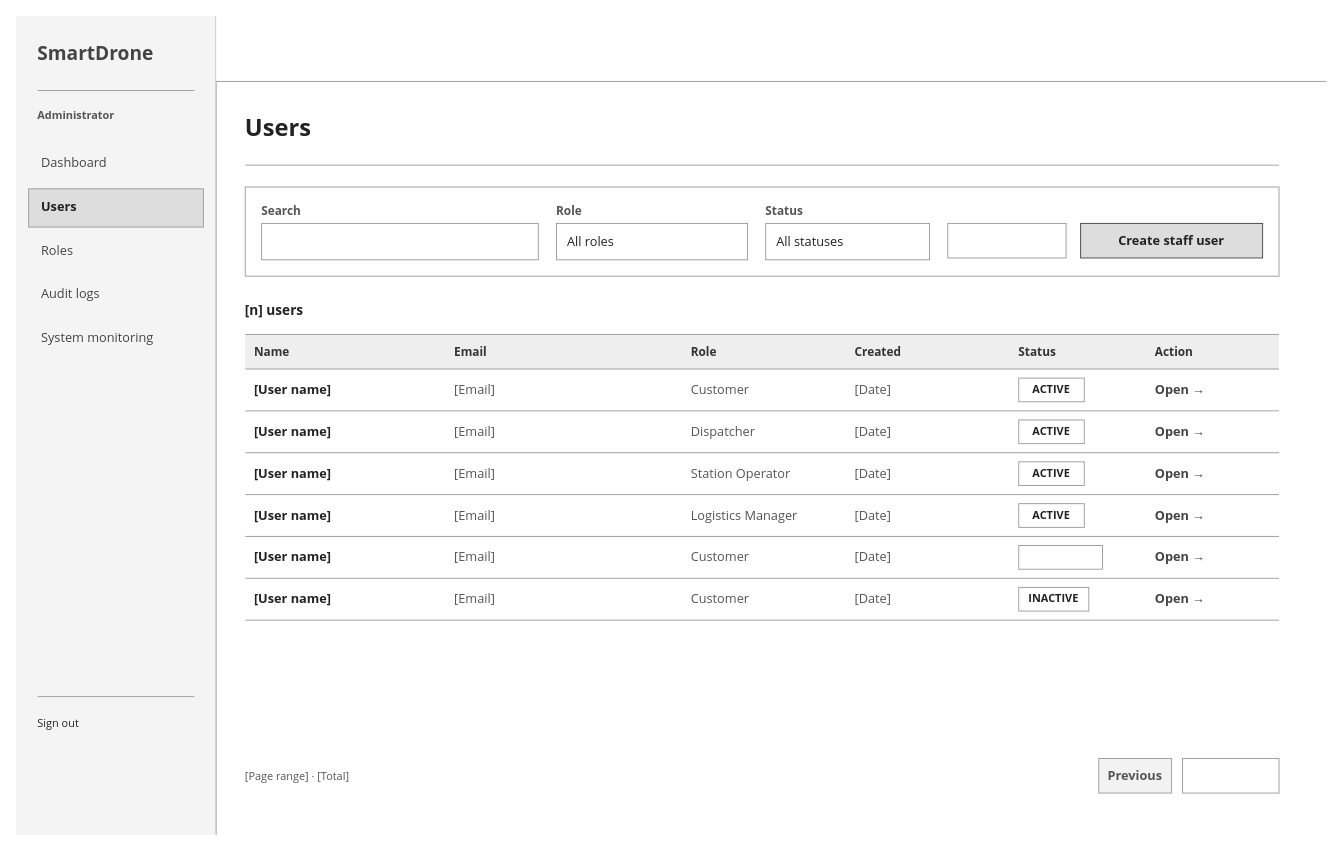
Image size: 1343x852. Some labels were removed from this diagram. Each missing label, with the centre of its shape:
"[User]" belongs at point (771, 48).
"Apply" belongs at point (1006, 240).
"Name, email or phone" belongs at point (399, 241).
"Next" belongs at point (1230, 775).
"SUSPENDED" belongs at point (1060, 557).
